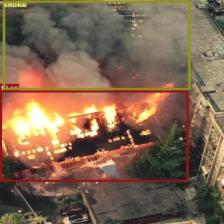fire: (0, 90, 188, 181)
smoke: (2, 0, 190, 90)
